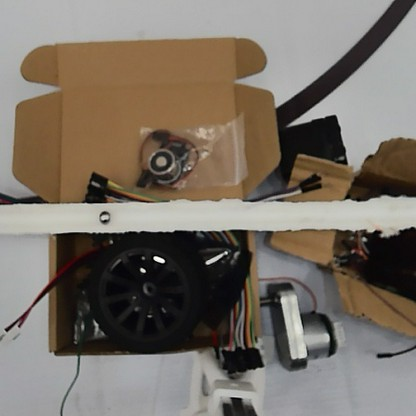ironball: (94, 209, 113, 224)
